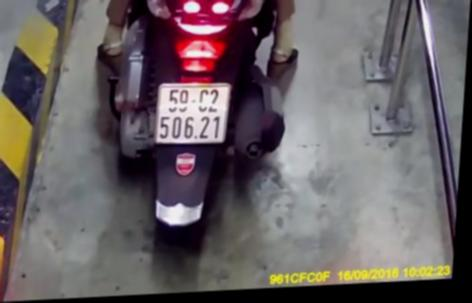License_Plate: (144, 75, 236, 150)
